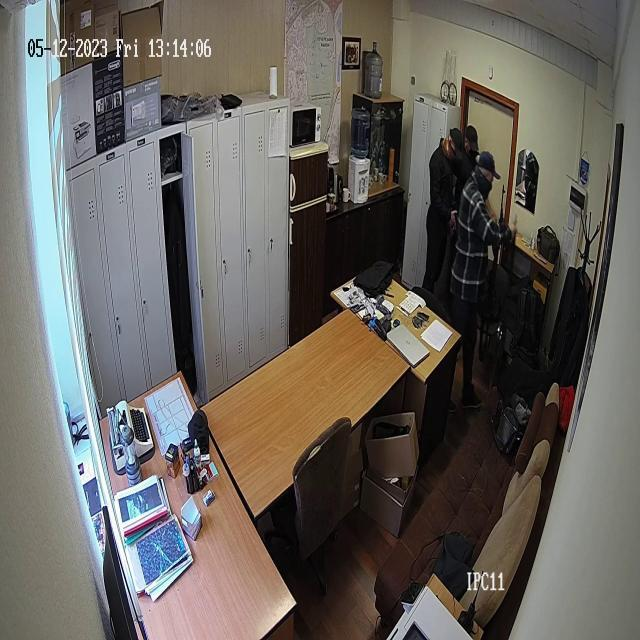pistol: (489, 184, 507, 332)
